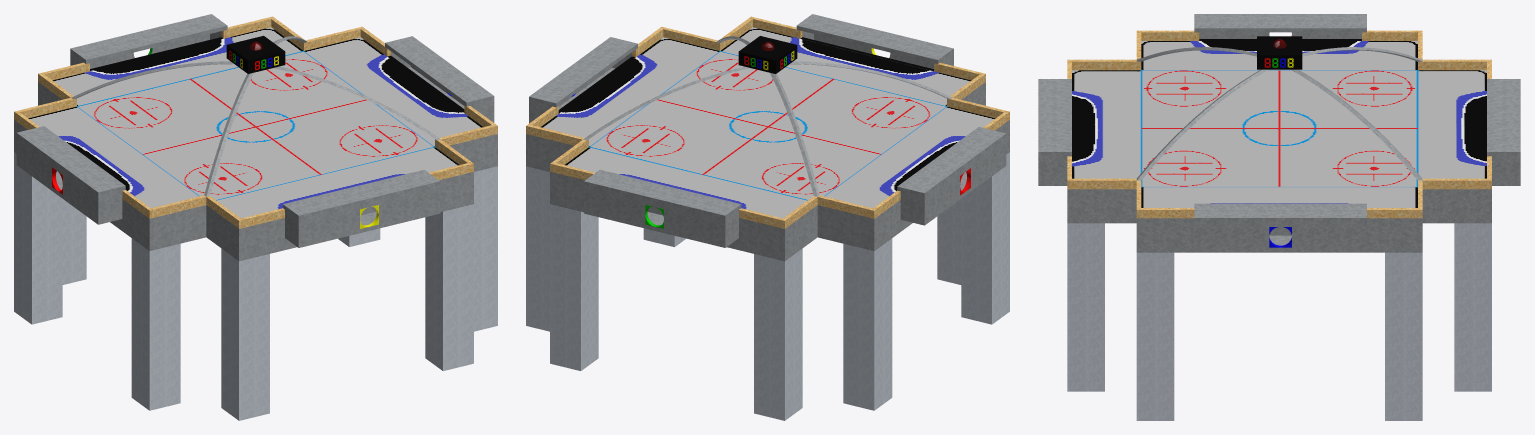
Rendered from Battle_Medium.FBX.
3 views of the same model, side by side, from view 1: azimuth 30°, elevation 25°; view 2: azimuth 150°, elevation 25°; view 3: azimuth 270°, elevation 25° (orthographic). The views are drawn at different scales.
Visible parts, largest first — view 1: Layer0_001; view 2: Layer0_001; view 3: Layer0_001.
Part boxes in pixels (left/top/right/bottom): Layer0_001: left=14, top=14, right=497, bottom=420; Layer0_001: left=526, top=14, right=1009, bottom=420; Layer0_001: left=1038, top=14, right=1520, bottom=420.
Bounding box in the file's own units: 2604 × 1739 × 2604.
Materials: 11 (5 with a texture image).
